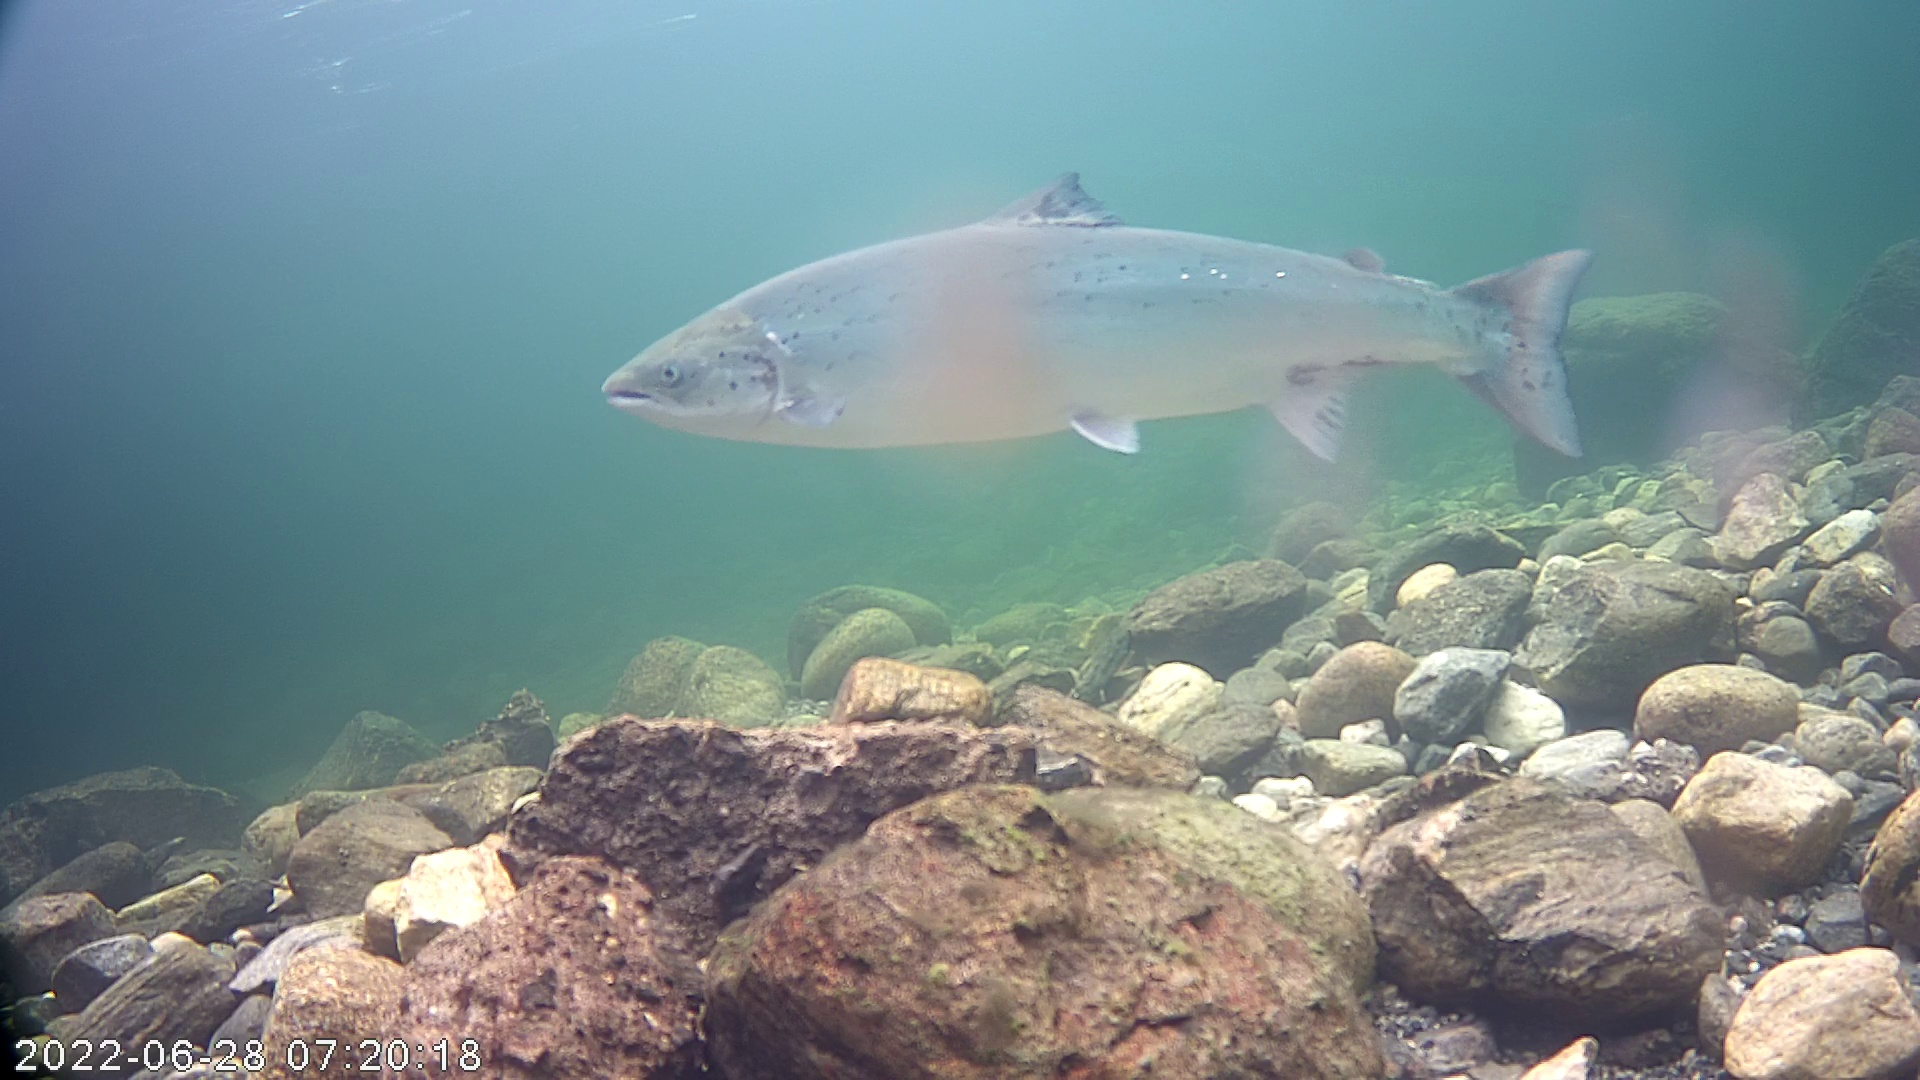salmon: (585, 105, 1625, 535)
